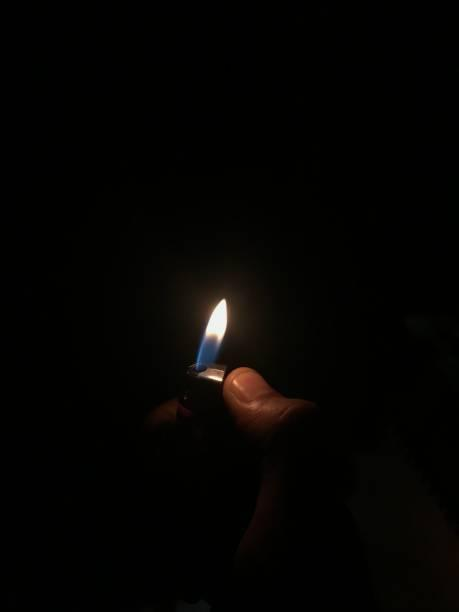Fire: (191, 295, 234, 366)
